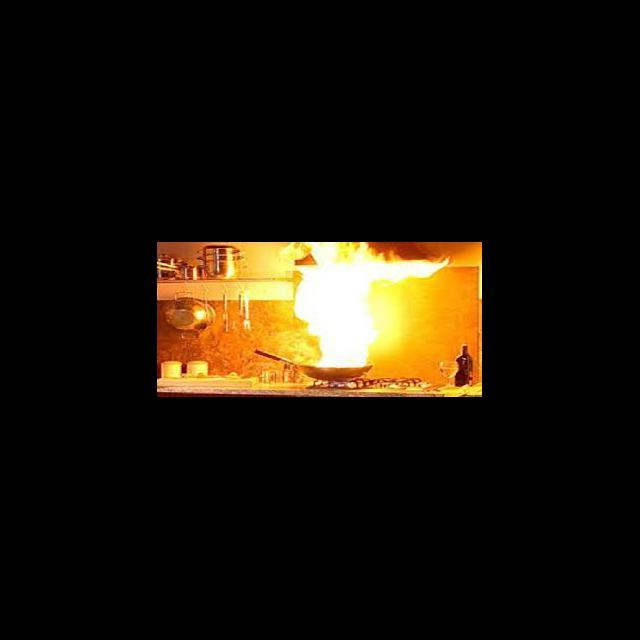Fire: (277, 244, 453, 369)
